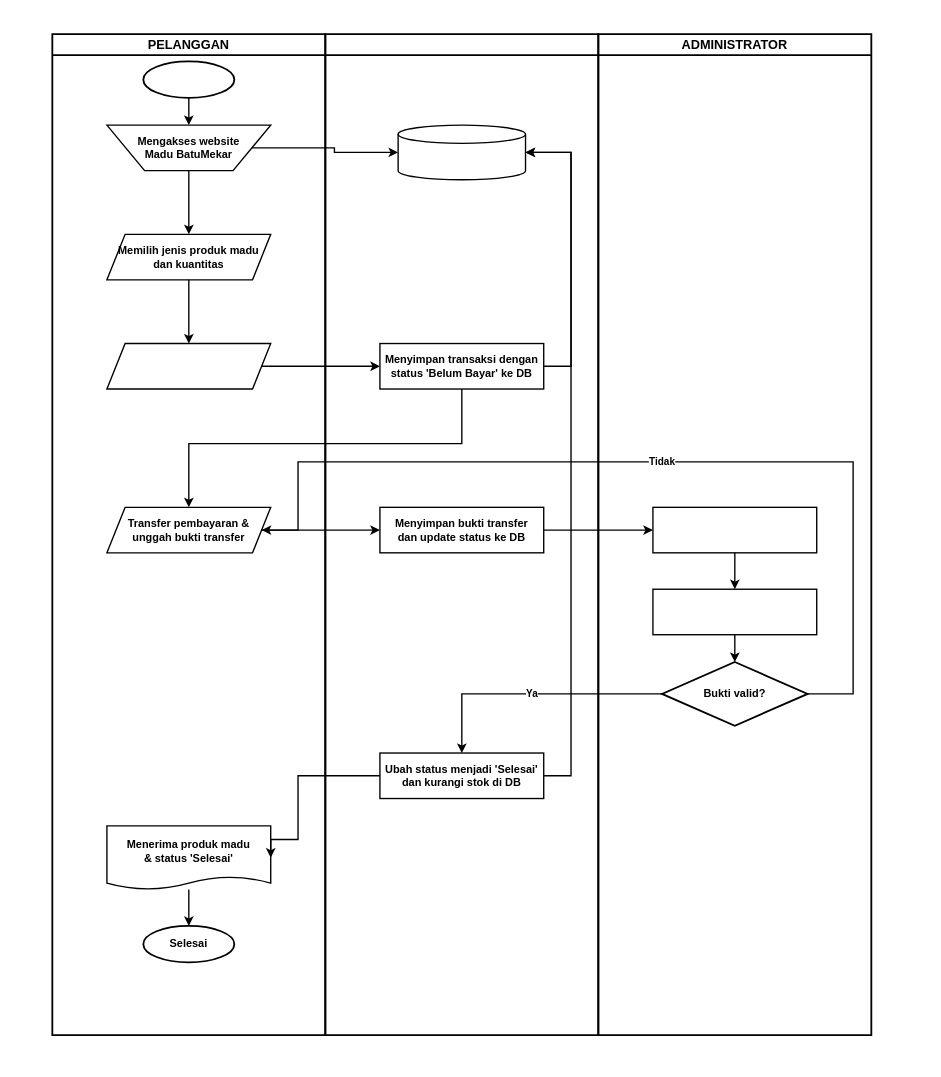
Image size: 941x1077. Some labels were removed from this diagram. Each missing label, with the box of its shape:
Checkout pesanan & mengisi alamat: (106, 342, 271, 389)
Database (MySQL): (397, 124, 526, 180)
Memvalidasi bukti transfer pembayaran: (652, 588, 817, 635)
Menerima notifikasi pembayaran masuk: (652, 506, 817, 553)
Mulai: (142, 60, 235, 98)
SISTEM: (324, 33, 599, 1036)
